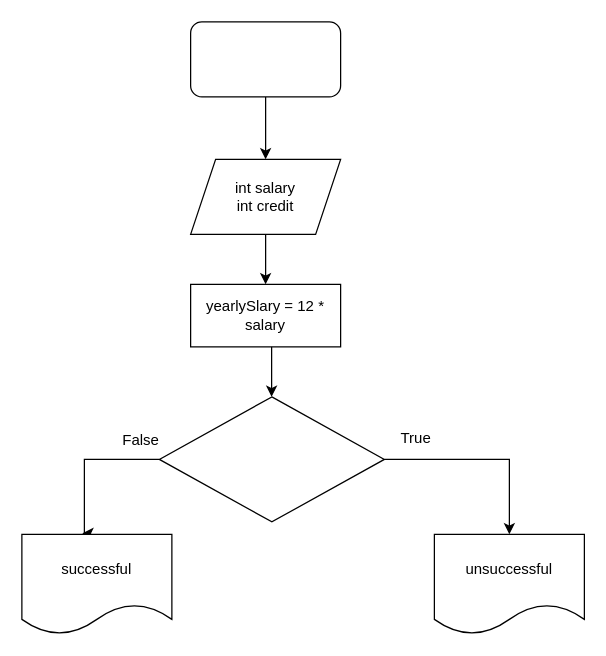
The diagram is 606 pixels wide and 656 high, and some of its shapes have lost their labels. The centre of each missing label's shape, as x and y in pixels:
"Start" belongs at [265,59].
"yearlySalary * 0.6 < credit" belongs at [271,459].
